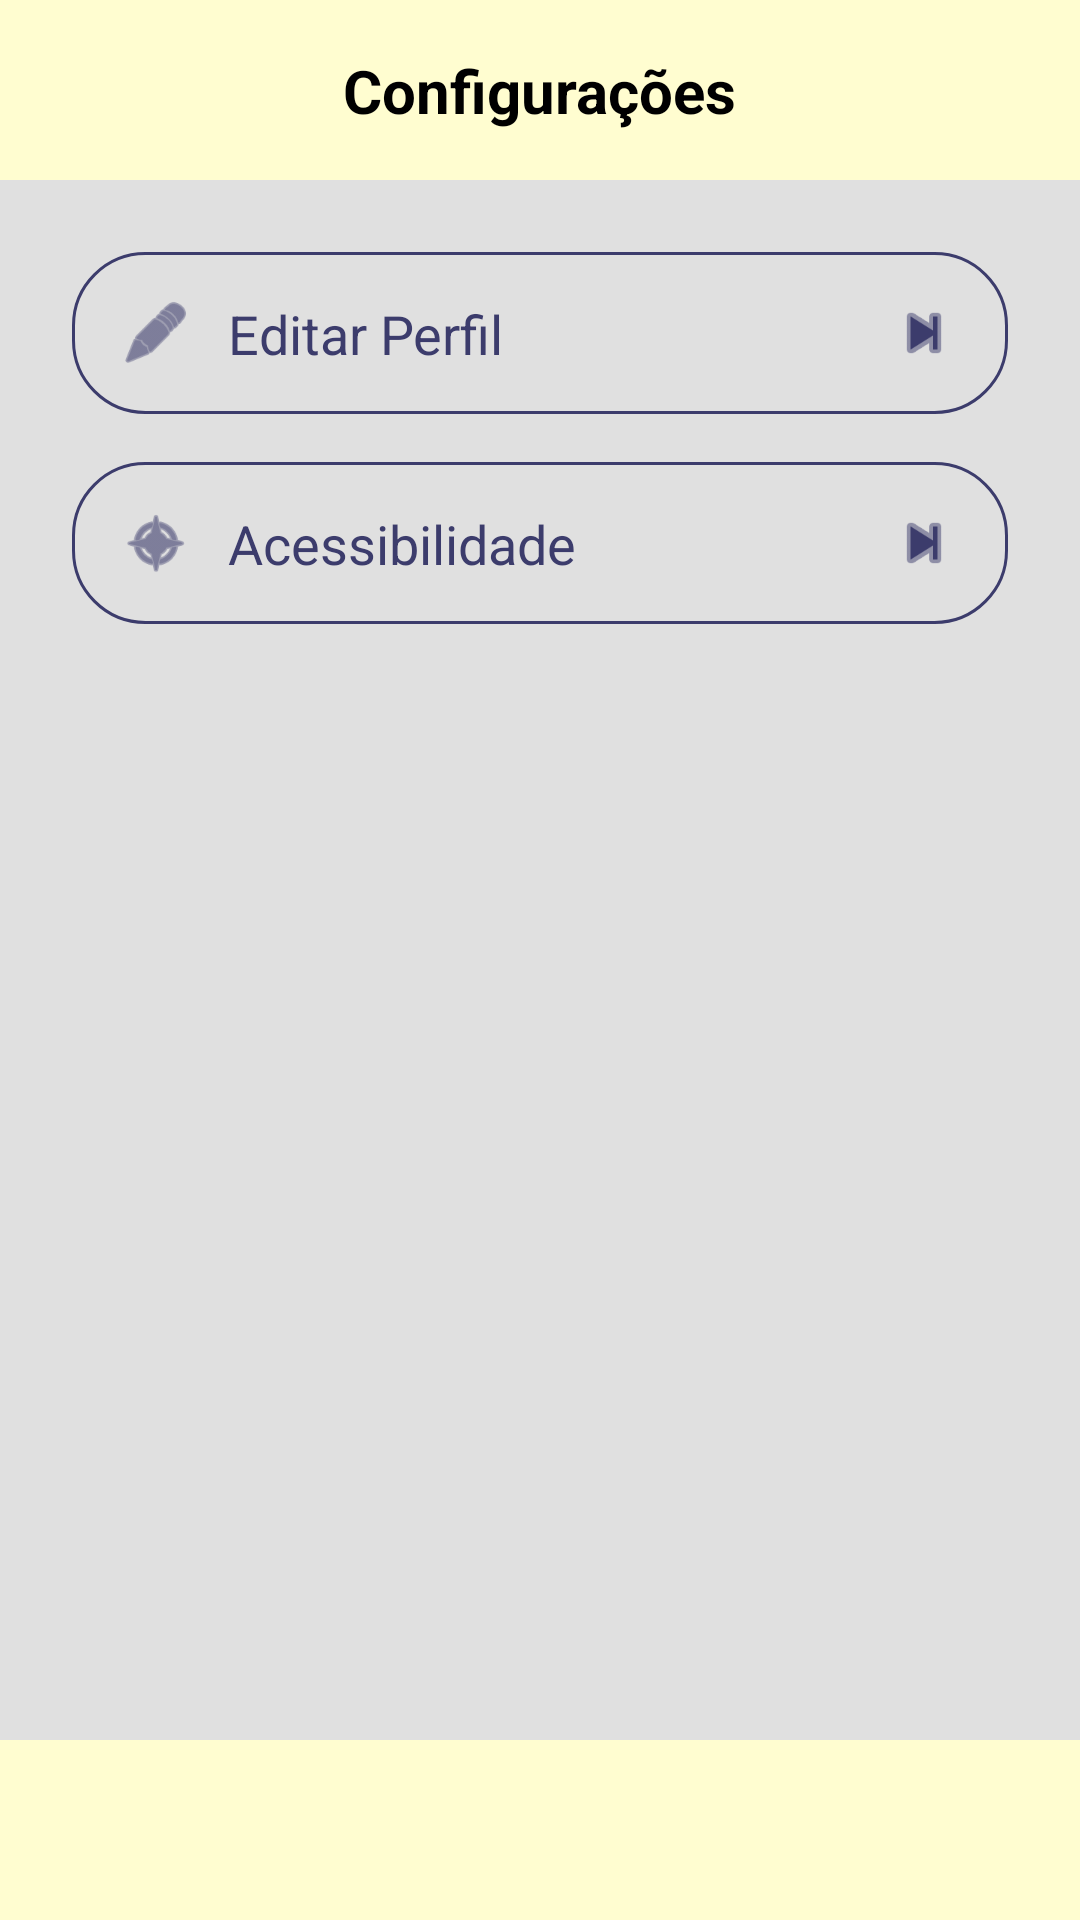

Locate icon controls on the screen. Image size 1080px x 1920px, boxes as [left=x1, top=y1, right=x2, bottom=y2].
Avançar: [left=907, top=313, right=941, bottom=353], [left=907, top=523, right=941, bottom=563]
